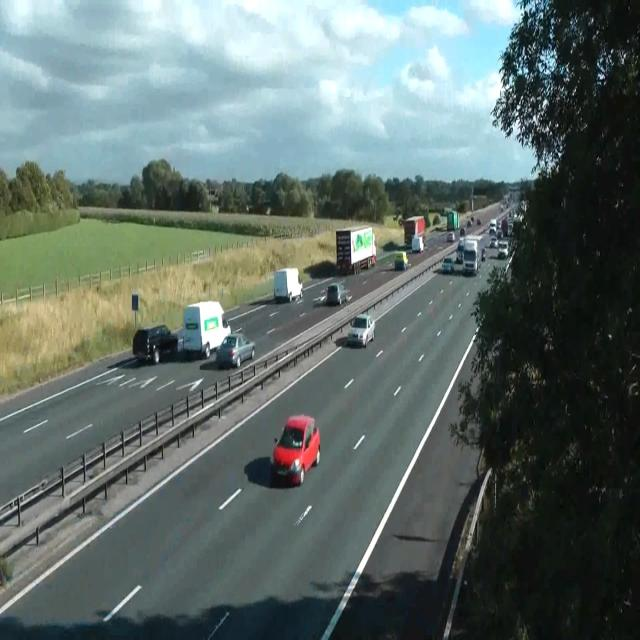bus: (215, 333, 255, 368), (347, 314, 375, 348), (441, 256, 453, 273), (489, 237, 498, 247), (446, 231, 454, 242), (481, 247, 485, 261), (460, 228, 466, 236), (476, 217, 481, 225)
jeep: (272, 412, 321, 487), (132, 322, 177, 363), (326, 282, 350, 305), (497, 239, 509, 258)
minibus: (133, 300, 231, 364), (177, 300, 231, 359), (336, 227, 376, 276), (273, 268, 303, 303), (454, 236, 480, 276), (404, 215, 426, 245), (394, 251, 409, 270), (447, 210, 459, 230), (411, 234, 423, 253)
